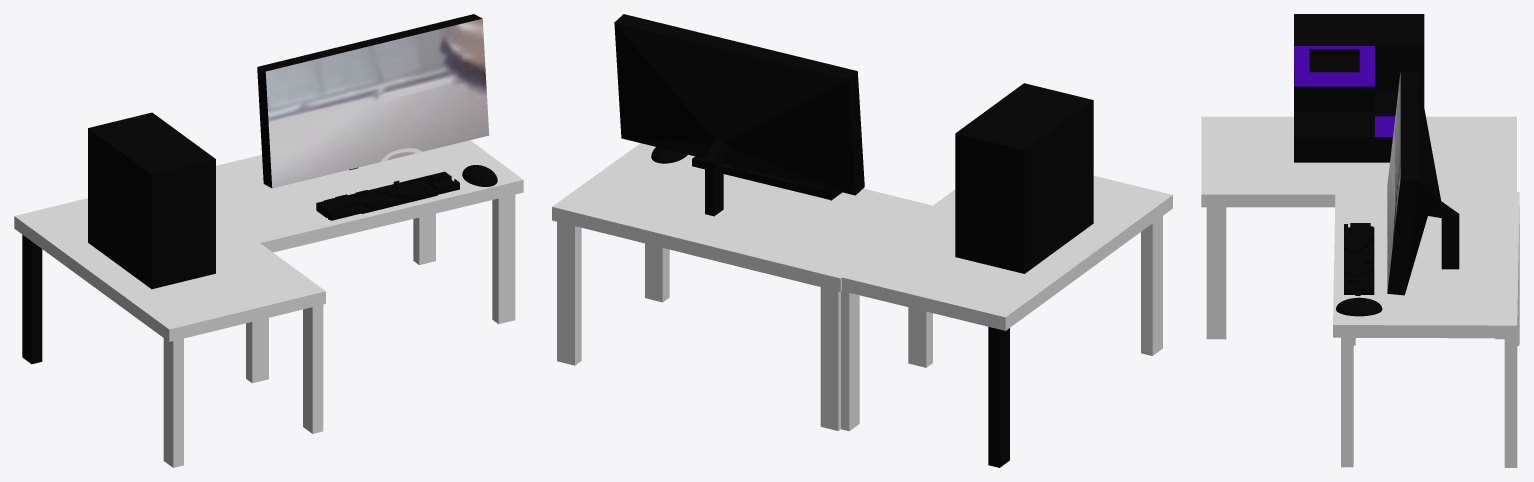
The model's file is OHMYPC.fbx.
3 renders of one model, left to right at view 1: azimuth 30°, elevation 25°; view 2: azimuth 150°, elevation 25°; view 3: azimuth 270°, elevation 25°, orthographic. The views are drawn at different scales.
Parts seen in each view (by area): view 1: Cube.010, Cube.012, Cube.004, Cube.005, Cube.011, Cube.006, Cube.003, Cube, Cube.002, Cube.007, Cube.009, Sphere; view 2: Cube.010, Cube.005, Cube.012, Cube.004, Cube.009, Cube.002, Cube.008, Cube.003, Cube.001, Cube.011, Cube.007, Cube.006; view 3: Cube.005, Cube.004, Cube.012, Cube.010, Cube, Cube.011, Cube.009, Cube.006, Sphere.
Part boxes in pixels (<box>): Cube.010: <box>257,14,489,188</box>; Cube.012: <box>88,112,215,289</box>; Cube.004: <box>14,198,325,341</box>; Cube.005: <box>216,140,523,252</box>; Cube.011: <box>316,171,459,220</box>; Cube.006: <box>492,194,515,324</box>; Cube.003: <box>163,338,183,467</box>; Cube: <box>303,304,323,433</box>; Cube.002: <box>22,235,42,364</box>; Cube.007: <box>246,318,268,383</box>; Cube.009: <box>413,213,435,264</box>; Sphere: <box>462,165,497,186</box>; Cube.010: <box>614,14,864,216</box>; Cube.005: <box>552,143,938,291</box>; Cube.012: <box>955,83,1093,273</box>; Cube.004: <box>842,175,1172,330</box>; Cube.009: <box>557,221,581,365</box>; Cube.002: <box>988,327,1009,467</box>; Cube.008: <box>820,287,840,430</box>; Cube.003: <box>1141,216,1162,355</box>; Cube.001: <box>841,291,859,431</box>; Cube.011: <box>692,156,841,200</box>; Cube.007: <box>908,307,932,367</box>; Cube.006: <box>645,243,669,302</box>; Cube.005: <box>1333,191,1519,338</box>; Cube.004: <box>1201,116,1516,207</box>; Cube.012: <box>1294,14,1424,162</box>; Cube.010: <box>1387,71,1459,295</box>; Cube: <box>1206,207,1226,339</box>; Cube.011: <box>1344,223,1374,295</box>; Cube.009: <box>1504,338,1517,467</box>; Cube.006: <box>1341,337,1353,467</box>; Sphere: <box>1336,297,1382,316</box>.
Bounding box in the file's own units: 32.41 × 20.71 × 20.88.
16 materials, 2 textured.
